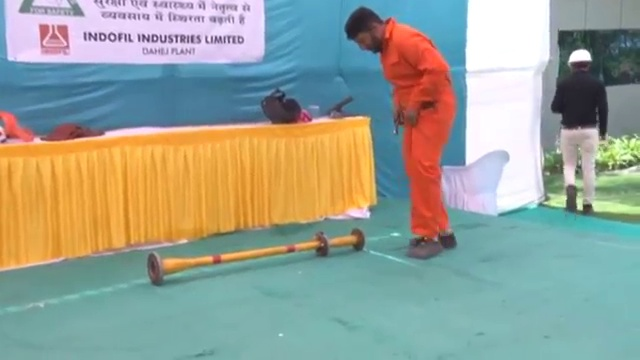helmet: (567, 48, 594, 65)
helmet_off: (343, 6, 385, 55)
helmet_on: (564, 46, 598, 77)
person: (343, 4, 458, 260), (551, 47, 612, 213)
